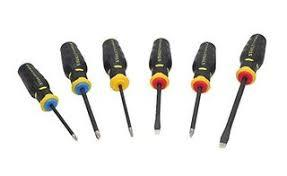screwdriver: (217, 32, 266, 148), (15, 61, 79, 141), (57, 40, 101, 139), (100, 37, 135, 137), (187, 41, 216, 137), (147, 36, 172, 134)
